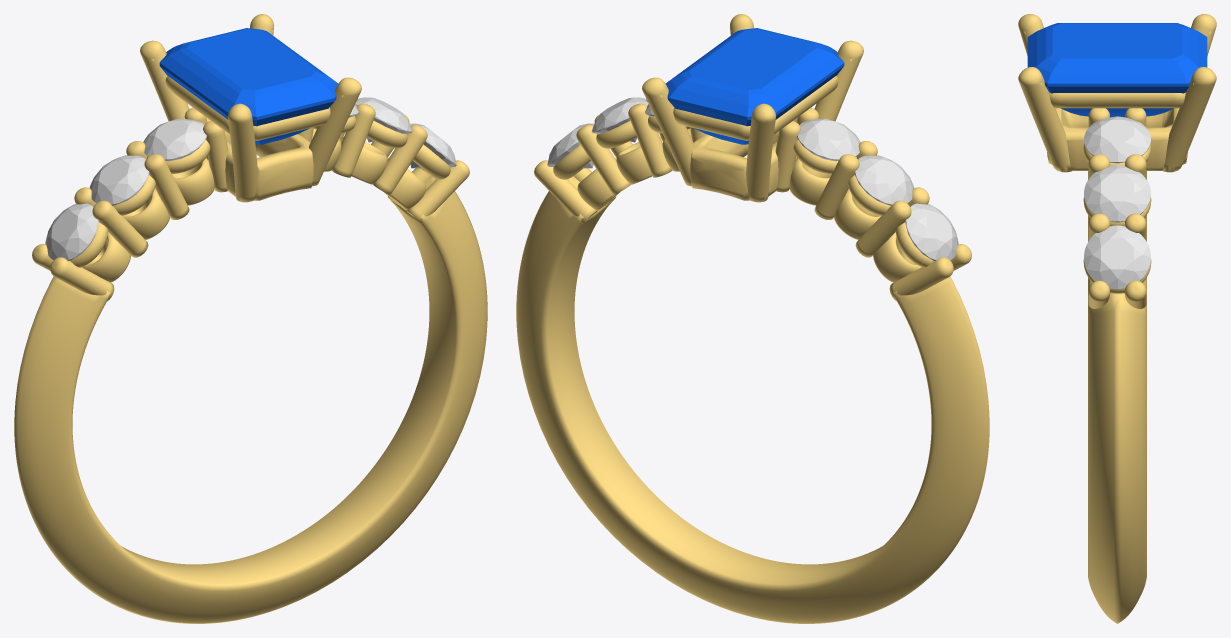
The model's file is bluesapphire-emerald-yellowgold-4prong-knifeedge-7stone.glb.
3 renders of one model, left to right at view 1: azimuth 30°, elevation 25°; view 2: azimuth 150°, elevation 25°; view 3: azimuth 270°, elevation 25°, orthographic.
Parts seen in each view (by area): view 1: metal, stone, side, side.001, side.002, side.004, side.005; view 2: metal, stone, side, side.001, side.002, side.004, side.005; view 3: metal, stone, side.005, side.004, side.003.
Boxes of the visible parts, x1,y1,x2,y2 form: metal: (14,14,487,623); stone: (159,28,338,144); side: (45,203,98,260); side.001: (89,155,149,205); side.002: (143,118,206,161); side.004: (355,97,412,142); side.005: (409,123,456,168); metal: (516,14,989,623); stone: (665,28,844,144); side: (905,203,958,260); side.001: (854,155,914,205); side.002: (797,118,860,161); side.004: (591,97,648,142); side.005: (547,123,594,168); metal: (1018,14,1216,623); stone: (1027,23,1207,117); side.005: (1084,225,1150,289); side.004: (1084,165,1150,222); side.003: (1084,116,1150,163).
Bounding box in the file's own units: 20.38 × 22.94 × 7.4.
